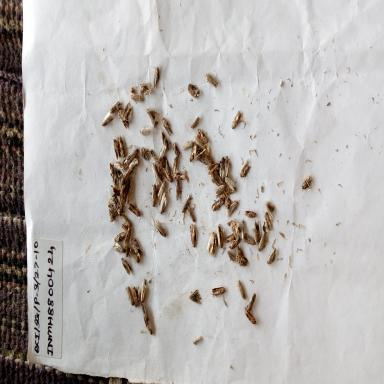pbw: (228, 108, 243, 136), (187, 282, 204, 306), (144, 103, 160, 128), (187, 79, 204, 102), (266, 244, 281, 270), (170, 180, 185, 206), (138, 76, 154, 100), (209, 280, 229, 299), (298, 172, 315, 194), (153, 216, 170, 238), (240, 156, 253, 182), (156, 192, 169, 217), (256, 228, 269, 253), (132, 280, 142, 312), (120, 178, 131, 207), (111, 154, 126, 175), (132, 236, 144, 262), (206, 68, 220, 90), (125, 140, 139, 162), (244, 292, 258, 314), (115, 128, 126, 156), (156, 131, 170, 153), (198, 151, 216, 168), (211, 195, 225, 216), (116, 108, 130, 129), (151, 63, 161, 92), (244, 309, 261, 326), (188, 222, 198, 250), (156, 177, 168, 200), (161, 115, 173, 138), (185, 202, 197, 225), (121, 102, 133, 125), (108, 198, 119, 223), (100, 109, 113, 130), (236, 278, 248, 300), (222, 154, 234, 176), (187, 142, 199, 164), (233, 251, 248, 268), (120, 255, 131, 278), (227, 198, 239, 219), (193, 134, 207, 152), (252, 216, 261, 244), (266, 197, 278, 218), (188, 114, 201, 133), (225, 227, 238, 246), (149, 181, 158, 208), (108, 185, 119, 207), (140, 278, 148, 308), (128, 246, 140, 266), (112, 228, 126, 245), (143, 314, 153, 337), (216, 155, 226, 178), (139, 143, 151, 162), (212, 183, 228, 197), (127, 201, 140, 218), (243, 231, 256, 248), (171, 140, 182, 160), (182, 192, 192, 214), (107, 162, 118, 182), (158, 141, 168, 163), (110, 95, 121, 115), (206, 230, 215, 254), (150, 161, 160, 182), (112, 242, 126, 257), (163, 155, 171, 181), (210, 232, 218, 258), (120, 213, 132, 230), (225, 172, 237, 189), (230, 218, 240, 238), (124, 227, 134, 247), (263, 210, 273, 230), (215, 221, 224, 243), (128, 155, 139, 173), (130, 92, 144, 106), (191, 332, 203, 348), (126, 284, 134, 308), (206, 164, 219, 178), (141, 304, 151, 322), (128, 83, 140, 98), (244, 206, 256, 221), (170, 171, 186, 182), (121, 165, 131, 182), (230, 235, 240, 252), (197, 129, 209, 143), (184, 138, 194, 154), (170, 156, 178, 176), (112, 137, 120, 157), (226, 250, 237, 263), (241, 218, 246, 239), (139, 126, 151, 134)
